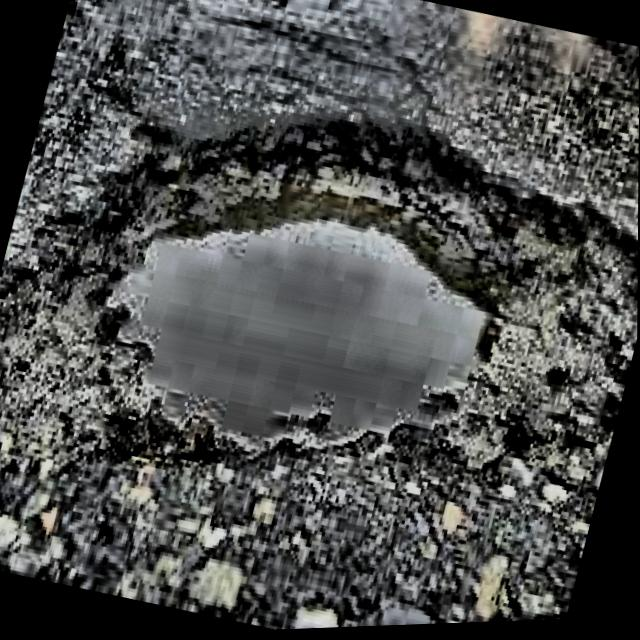pothole: (118, 117, 530, 436)
